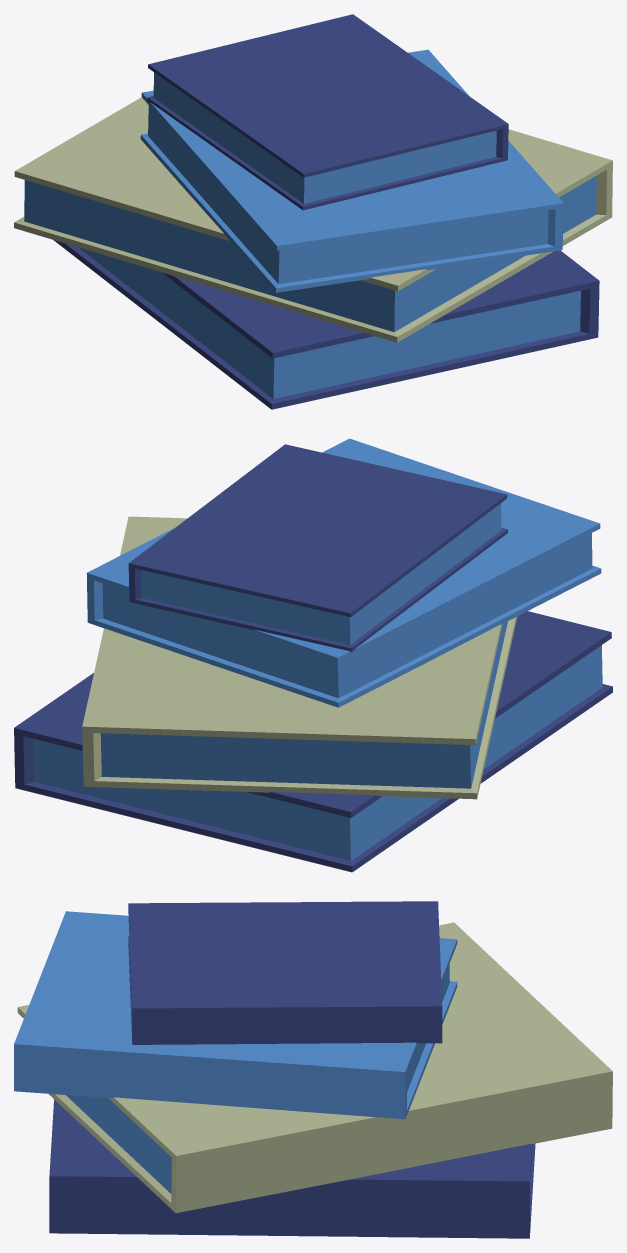
Rendered from Bedroom3_Books11.fbx.
The picture shows the model from 3 angles, top to bottom: view 1: azimuth 30°, elevation 25°; view 2: azimuth 150°, elevation 25°; view 3: azimuth 270°, elevation 25°; orthographic projection. The views are drawn at different scales.
Visible parts, largest first — view 1: Bedroom3_Books11; view 2: Bedroom3_Books11; view 3: Bedroom3_Books11.
Boxes of the visible parts, x1,y1,x2,y2 form: Bedroom3_Books11: (14,14,612,409); Bedroom3_Books11: (14,438,612,872); Bedroom3_Books11: (14,901,612,1238).
Size of the model in its own units: 45.9 by 18.72 by 50.22.
